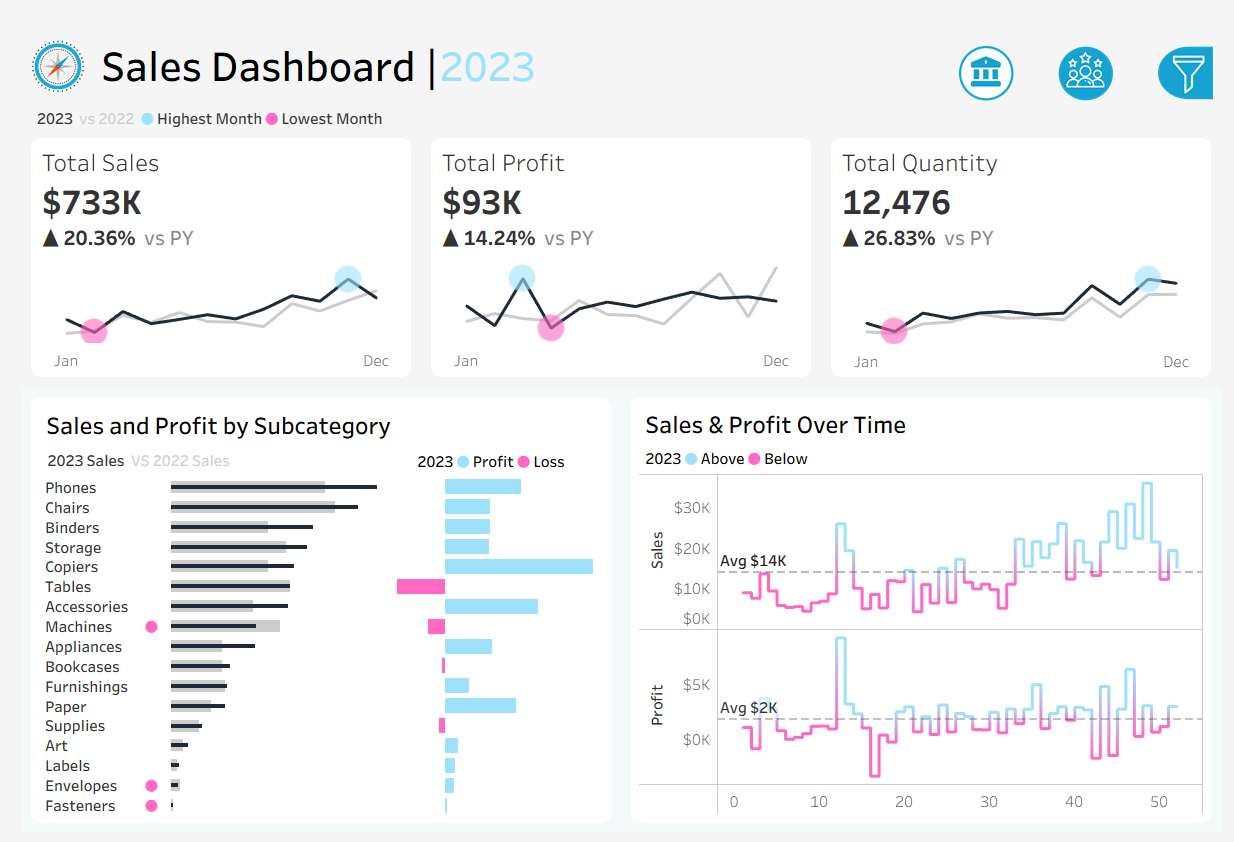

The dashboard page shown, as its layout file describes it:
{"tool":"tableau","page":{"name":"Sales Dashboard","canvas":[1200,800],"ordinal":1},"visuals":[{"type":"image","param":"Image/Icon - Logo.png","box":[0,0,73.5,67]},{"type":"text","box":[73.5,0,828.5,63]},{"type":"dashboard-object","box":[916,8,99,64]},{"type":"dashboard-object","box":[1015,8,99,64]},{"type":"blank","box":[937,10,251,86]},{"type":"worksheet","title":"Legend KPI","mark":"Automatic","box":[0,67,1200,38]},{"type":"text","box":[937,96,251,40]},{"type":"worksheet","title":"Total Sales","mark":"Automatic","rows":["Calculation_0997829881823236"],"cols":["Order Date"],"box":[0,105,400,249]},{"type":"worksheet","title":"Total Profit","mark":"Automatic","rows":["Min/Max Sales (copy)_0997829953384460"],"cols":["Order Date"],"box":[400,105,400,249]},{"type":"worksheet","title":"KPI Quantity","mark":"Automatic","rows":["Min/Max Sales (copy)_0997829955387408"],"cols":["Order Date"],"box":[800,105,400,249]},{"type":"parameter","param":"[Parameters].[Parameter 1]","box":[937,136,251,56]},{"type":"blank","box":[937,192,251,80]},{"type":"text","box":[937,272,251,33]},{"type":"filter","title":"Total Sales","param":"[federated.102402t0xyt6bf1528je301eo9xo].[none:Category:nk]","box":[937,305,251,61]},{"type":"filter","title":"Total Sales","param":"[federated.102402t0xyt6bf1528je301eo9xo].[none:Sub-Category:nk]","box":[937,366,251,61]},{"type":"text","box":[617,371,566,40]},{"type":"text","box":[18,372,564,40]},{"type":"text","box":[617,411,566,29]},{"type":"worksheet","title":"Legend Subcategory","mark":"Automatic","box":[18,412,371,32]},{"type":"text","box":[389,412,193,32]},{"type":"blank","box":[937,427,251,74]},{"type":"worksheet","title":"Weekly Trends","mark":"Automatic","rows":["Calculation_0997829870432256","CY Sales (copy)_0997829952659465"],"cols":["Order Date"],"box":[617,440,566,343]},{"type":"worksheet","title":"Subcategory Comparison","mark":"Bar","rows":["Sub-Category","Calculation_2277661764710406"],"cols":["CY Sales (copy)_0997829871226881","Calculation_0997829870432256","CY Sales (copy)_0997829952659465"],"box":[18,444,564,338]},{"type":"text","box":[937,501,251,33]},{"type":"filter","title":"Total Sales","param":"[federated.102402t0xyt6bf1528je301eo9xo].[none:Region:nk]","box":[937,534,251,61]},{"type":"filter","title":"Total Sales","param":"[federated.102402t0xyt6bf1528je301eo9xo].[none:State:nk]","box":[937,595,251,61]},{"type":"filter","title":"Total Sales","param":"[federated.102402t0xyt6bf1528je301eo9xo].[none:City:nk]","box":[937,656,251,61]}]}

Visuals, with their boxes in screenshot pixels (x1, y1, x2, y2), scaled from the page's 1200x800 canvas onto the 1234x842 screenshot:
image: x1=0 y1=0 x2=76 y2=71
text: x1=76 y1=0 x2=928 y2=66
dashboard-object: x1=942 y1=8 x2=1044 y2=76
dashboard-object: x1=1044 y1=8 x2=1146 y2=76
blank: x1=964 y1=11 x2=1222 y2=101
"Legend KPI" worksheet: x1=0 y1=71 x2=1233 y2=111
text: x1=964 y1=101 x2=1222 y2=143
"Total Sales" worksheet: x1=0 y1=111 x2=411 y2=373
"Total Profit" worksheet: x1=411 y1=111 x2=823 y2=373
"KPI Quantity" worksheet: x1=823 y1=111 x2=1233 y2=373
parameter: x1=964 y1=143 x2=1222 y2=202
blank: x1=964 y1=202 x2=1222 y2=286
text: x1=964 y1=286 x2=1222 y2=321
"Total Sales" filter: x1=964 y1=321 x2=1222 y2=385
"Total Sales" filter: x1=964 y1=385 x2=1222 y2=449
text: x1=634 y1=390 x2=1217 y2=433
text: x1=19 y1=392 x2=598 y2=434
text: x1=634 y1=433 x2=1217 y2=463
"Legend Subcategory" worksheet: x1=19 y1=434 x2=400 y2=467
text: x1=400 y1=434 x2=598 y2=467
blank: x1=964 y1=449 x2=1222 y2=527
"Weekly Trends" worksheet: x1=634 y1=463 x2=1217 y2=824
"Subcategory Comparison" worksheet (Bar marks): x1=19 y1=467 x2=598 y2=823
text: x1=964 y1=527 x2=1222 y2=562
"Total Sales" filter: x1=964 y1=562 x2=1222 y2=626
"Total Sales" filter: x1=964 y1=626 x2=1222 y2=690
"Total Sales" filter: x1=964 y1=690 x2=1222 y2=755
